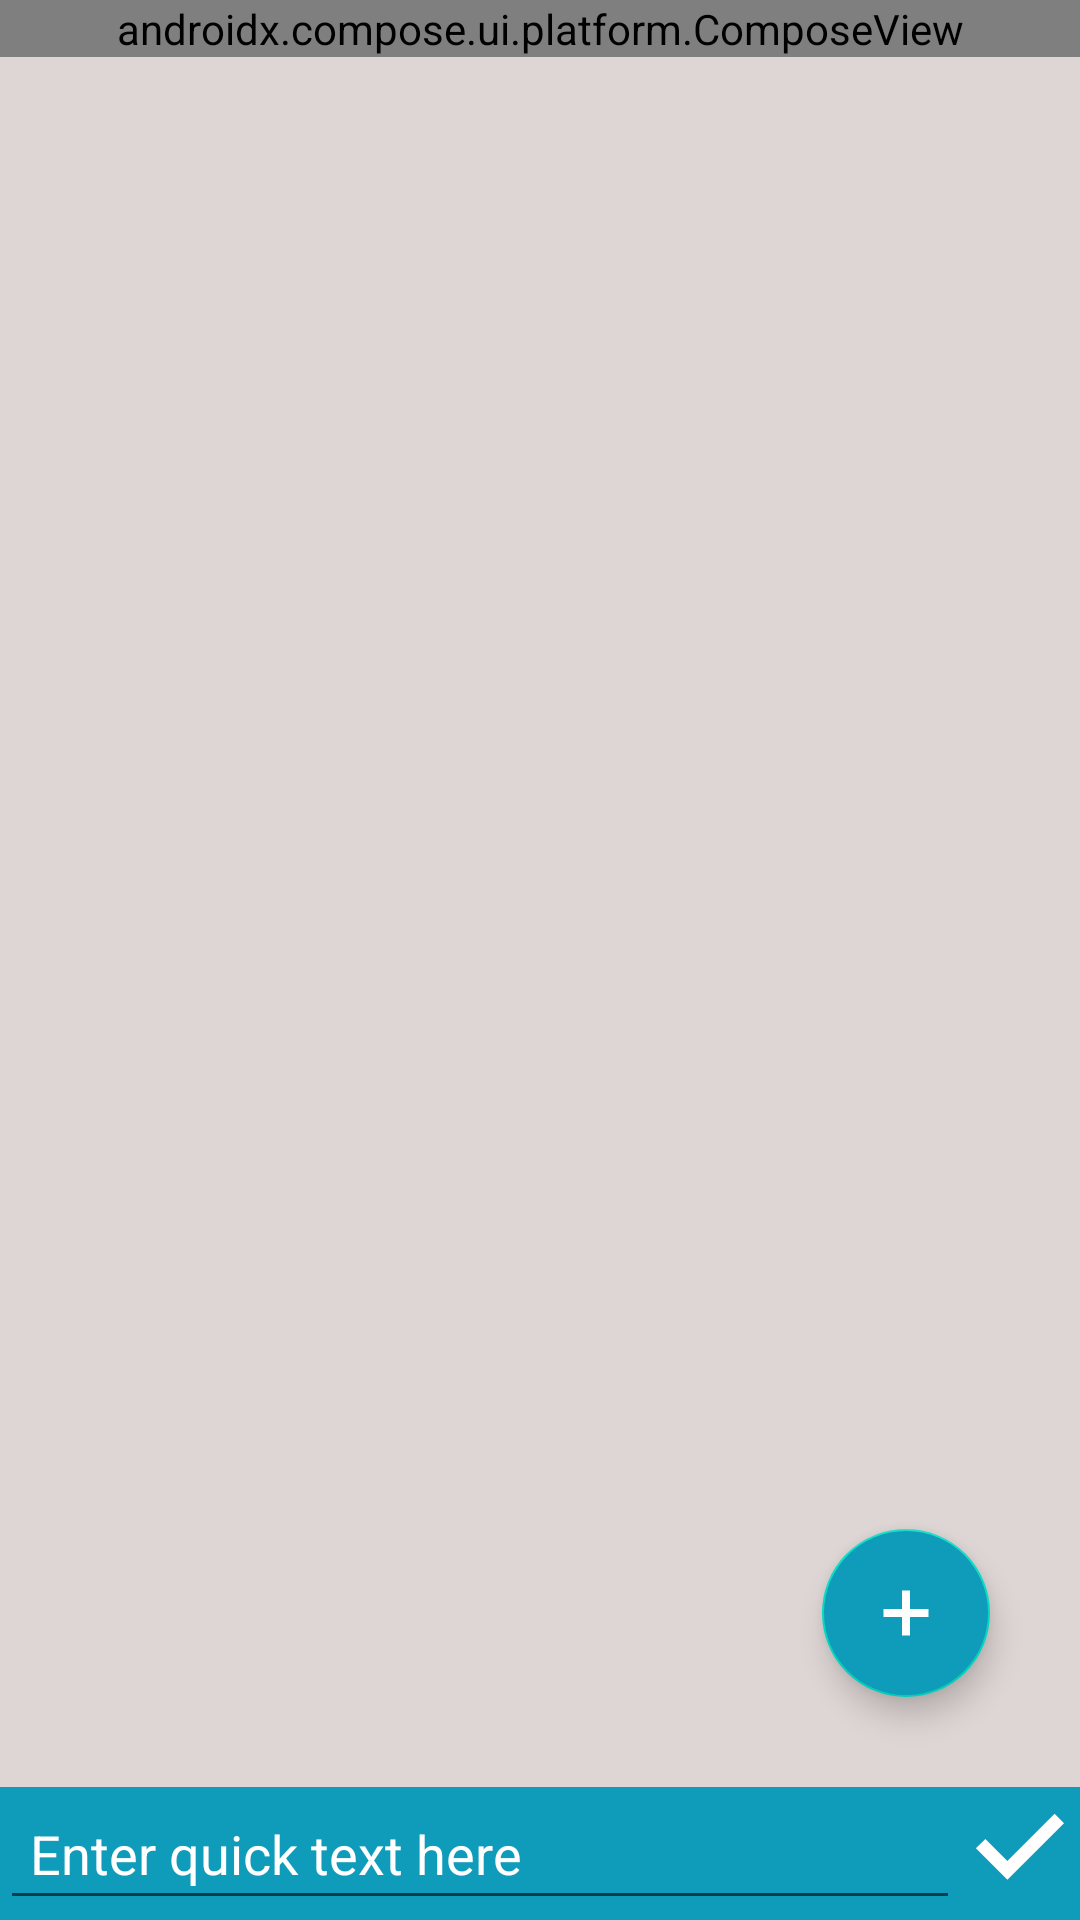

Icons on this 1080 × 1920 Android screen, each with the point to tap as point (x, y):
add: point (906, 1613)
done: point (1020, 1847)
